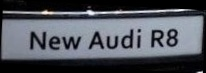character: (29, 29, 46, 50), (88, 31, 104, 50), (61, 35, 82, 49), (150, 28, 164, 48), (120, 28, 133, 49), (166, 28, 178, 46), (105, 33, 118, 49), (48, 35, 61, 50), (136, 28, 142, 49)
